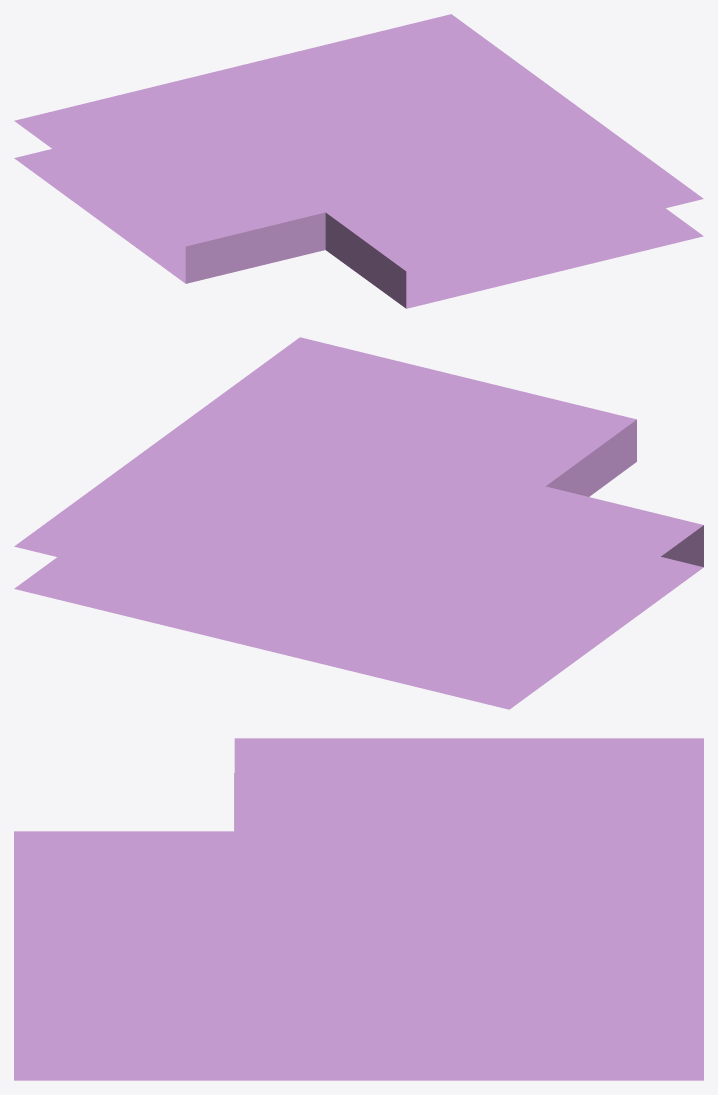
The model's file is Museum_mesa_Border.fbx.
3 renders of one model, top to bottom at view 1: azimuth 30°, elevation 25°; view 2: azimuth 150°, elevation 25°; view 3: azimuth 270°, elevation 25°, orthographic. The views are drawn at different scales.
Visible parts, largest first — view 1: Archi_Annexes_Etage.003; view 2: Archi_Annexes_Etage.003; view 3: Archi_Annexes_Etage.003.
Boxes of the visible parts, x1=… form: Archi_Annexes_Etage.003: x1=14, y1=14, x2=703, y2=308; Archi_Annexes_Etage.003: x1=14, y1=337, x2=703, y2=709; Archi_Annexes_Etage.003: x1=14, y1=738, x2=703, y2=1080.
Size of the model in its own units: 591 by 48.22 by 591.
